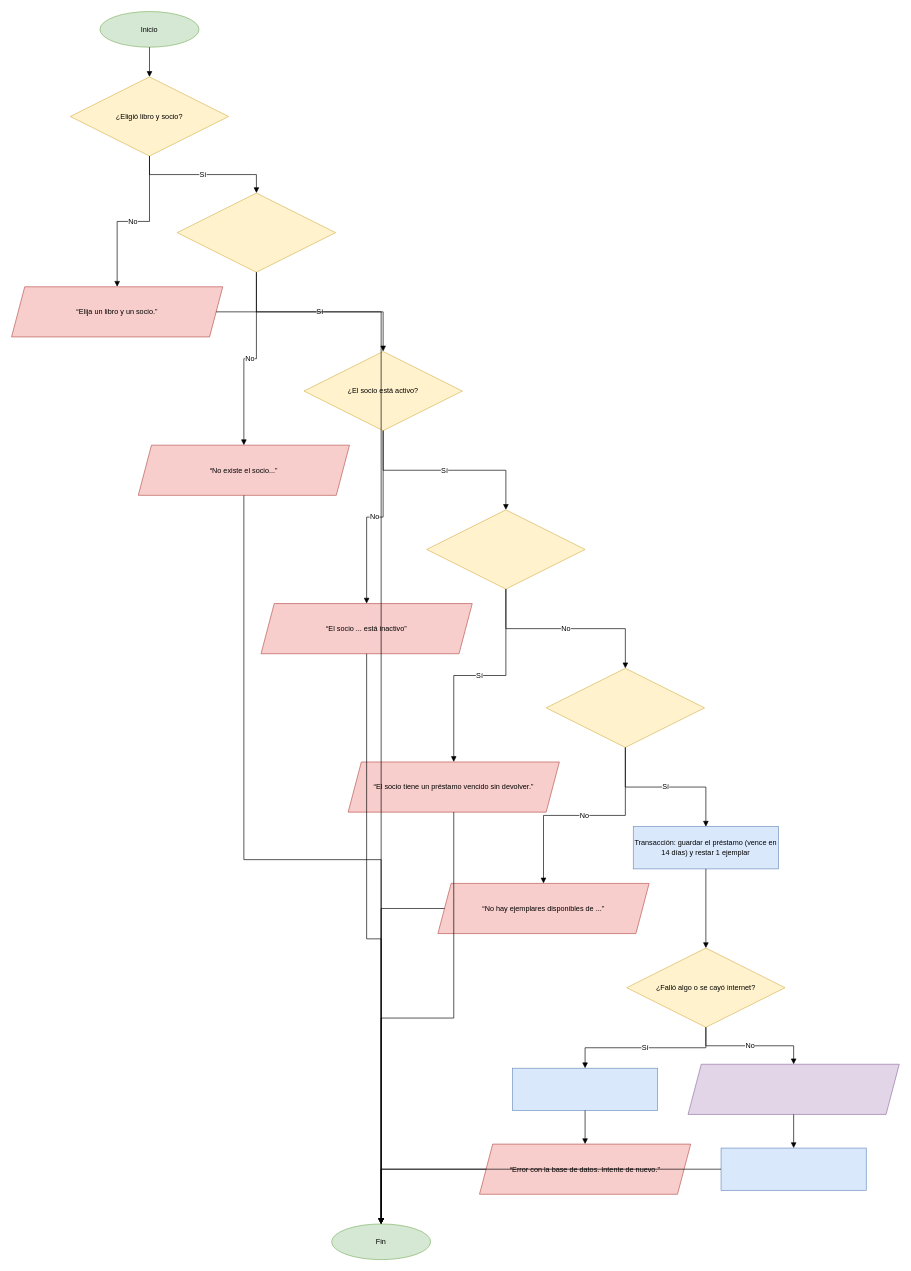
Image size: 911x1271. Some labels were removed from this diagram. The shapes that lost their labels are listed below. From the top down, each one's centre as x and y in pixels, then its label:
At point 256,232: "¿El socio existe?".
At point 505,549: "¿Tiene préstamos vencidos?".
At point 625,707: "¿El libro tiene ejemplares?".
At point 585,1089: "Rollback: se deshace todo".
At point 793,1089: "“Préstamo registrado. Vence el ...”".
At point 793,1168: "Se actualiza la tabla".
